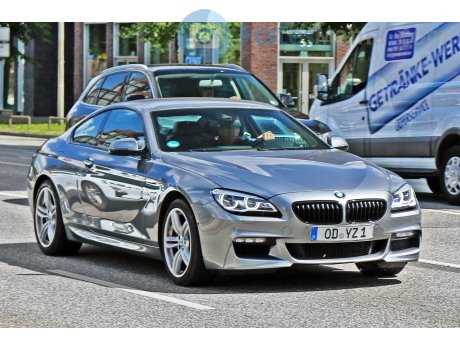License Plates: (317, 226, 367, 237)
